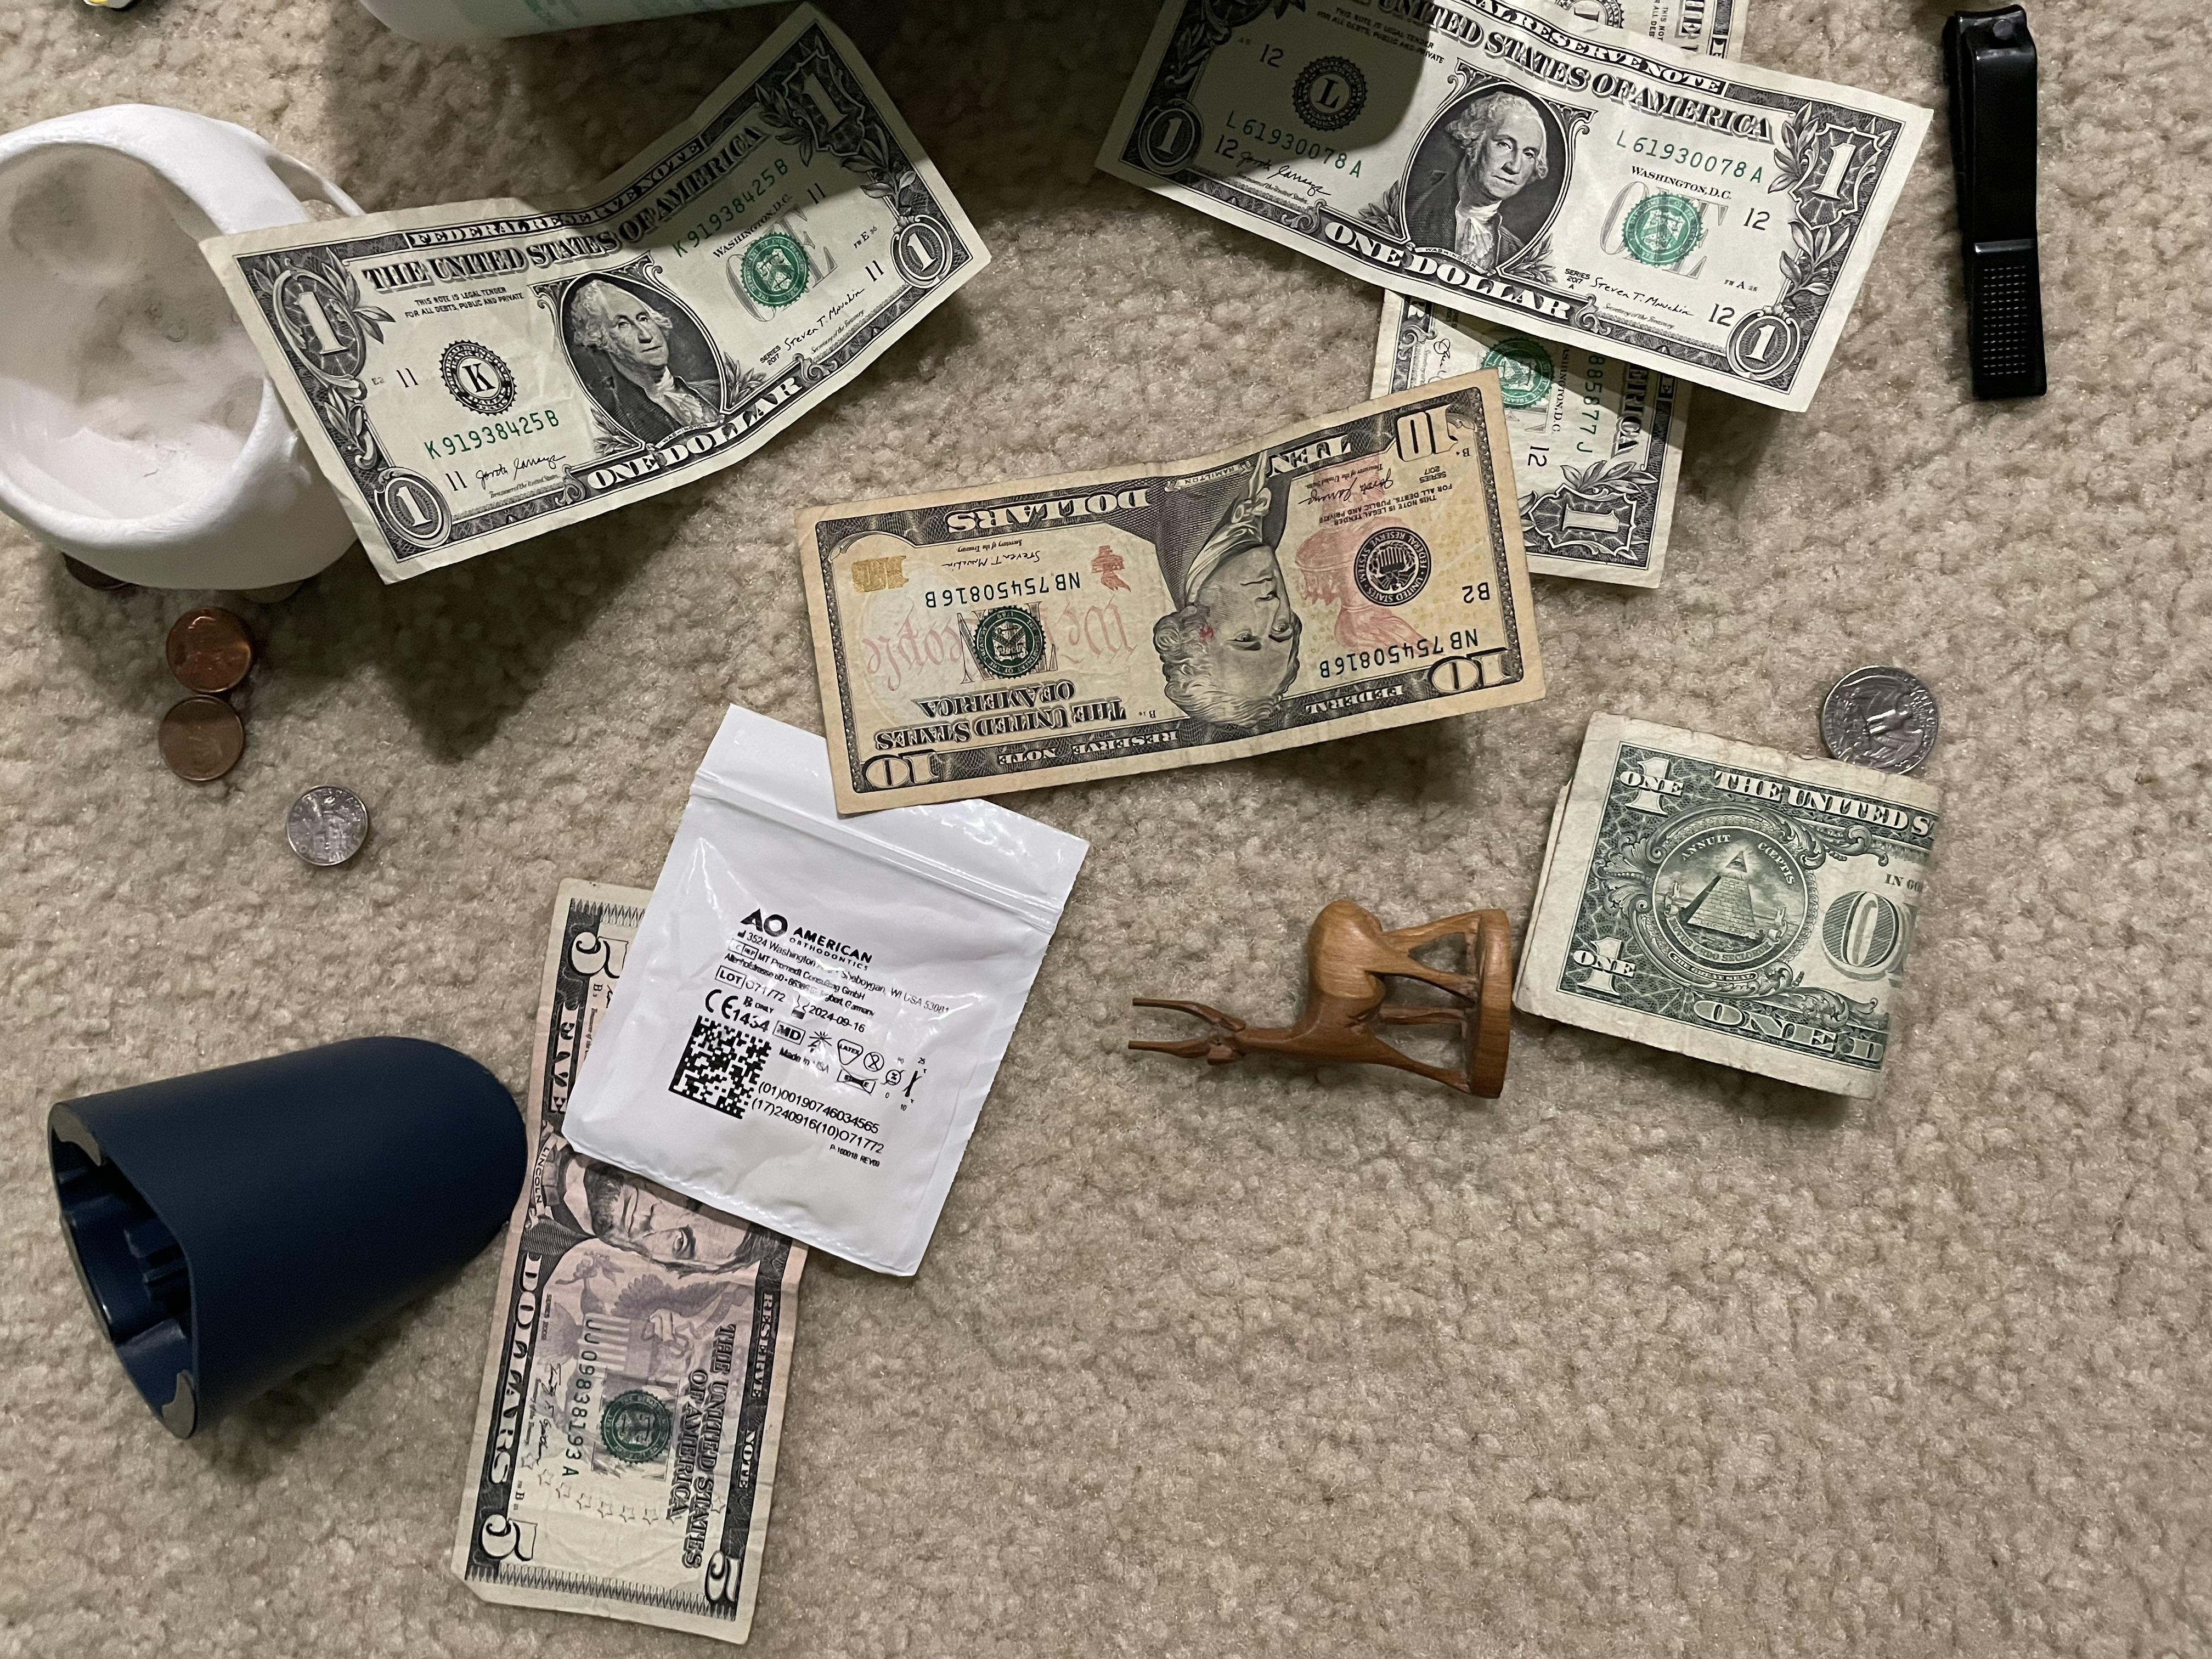Dime: (280, 779, 388, 870)
FiveBill: (456, 875, 819, 1619)
OneBill: (200, 9, 1001, 580), (1090, 2, 1946, 408), (1515, 708, 1946, 1114)
Penny: (158, 605, 265, 695), (157, 692, 246, 789)
Quarter: (1813, 667, 1956, 767)
TenBill: (799, 383, 1559, 826)
